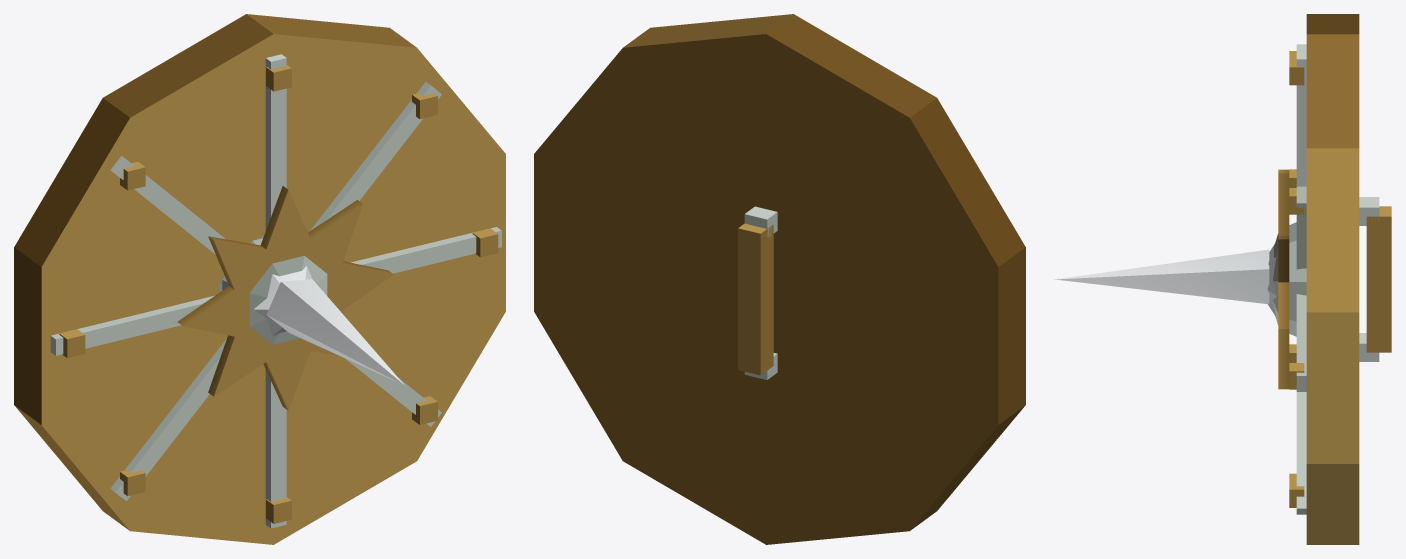
The model's file is barb_off_4.gltf.
3 renders of one model, left to right at view 1: azimuth 30°, elevation 25°; view 2: azimuth 150°, elevation 25°; view 3: azimuth 270°, elevation 25°, orthographic. The views are drawn at different scales.
Visible parts, largest first — view 1: barb_off_4; view 2: barb_off_4; view 3: barb_off_4.
Boxes of the visible parts, box(x1,y1,x2,y2) form: barb_off_4: box(14, 14, 505, 544); barb_off_4: box(534, 14, 1025, 544); barb_off_4: box(1054, 14, 1391, 544).
Bounding box in the file's own units: 1.03 × 1.08 × 0.675.
Materials: 1 (1 with a texture image).
